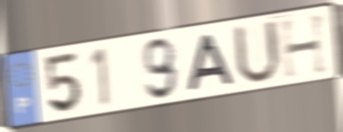1: (88, 45, 112, 109)
5: (42, 48, 85, 116)
9: (141, 35, 181, 102)
A: (186, 32, 238, 94)
H: (278, 11, 331, 82)
U: (231, 18, 284, 87)
